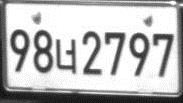2: (81, 30, 103, 75)
7: (102, 31, 127, 75), (153, 30, 174, 78)
8: (33, 29, 54, 73)
9: (127, 31, 151, 77), (9, 29, 30, 71)
너: (55, 38, 77, 74)
